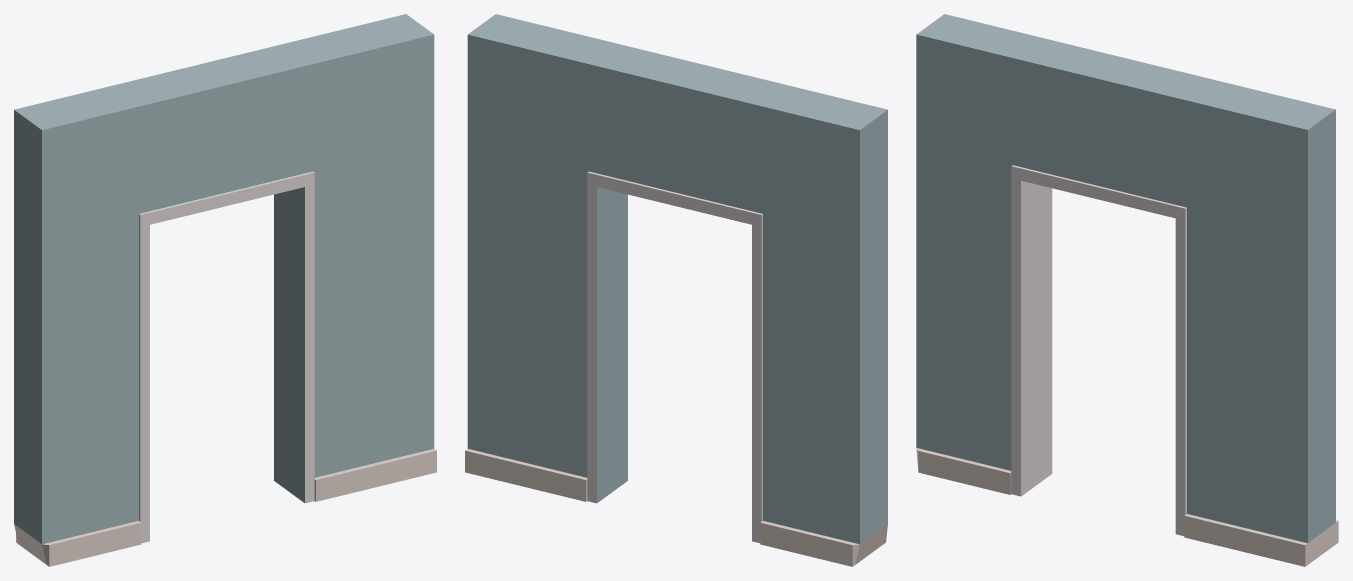
Rendered from DoorFrameConnector.fbx.
3 views of the same model, side by side, from view 1: azimuth 30°, elevation 25°; view 2: azimuth 150°, elevation 25°; view 3: azimuth 330°, elevation 25° (orthographic).
Parts seen in each view (by area): view 1: DoorFrameConnector; view 2: DoorFrameConnector; view 3: DoorFrameConnector.
Boxes of the visible parts, x1=… form: DoorFrameConnector: x1=14, y1=14, x2=436, y2=566; DoorFrameConnector: x1=465, y1=14, x2=887, y2=566; DoorFrameConnector: x1=916, y1=14, x2=1338, y2=566.
Bounding box in the file's own units: 1.88 × 0.278 × 2.
